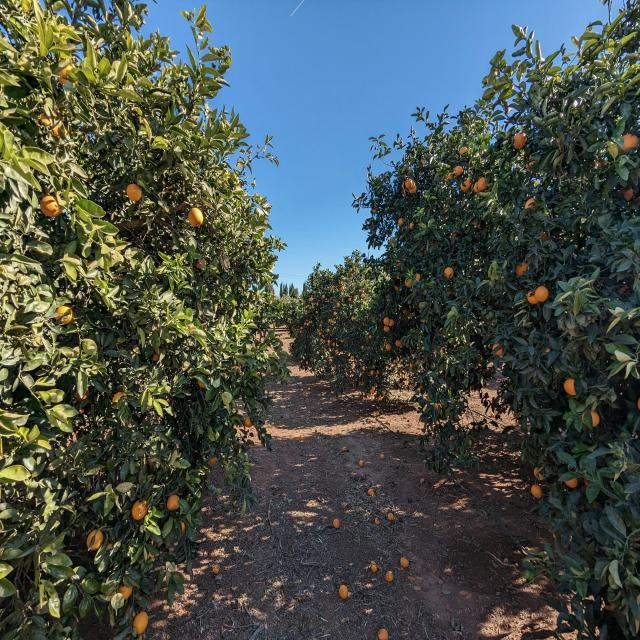Jeruk Sudah Matang: (15, 316, 42, 346), (56, 60, 78, 86), (49, 116, 69, 143), (84, 526, 104, 553), (40, 192, 60, 218), (33, 104, 56, 126), (53, 302, 74, 326), (617, 134, 639, 156), (132, 497, 150, 522), (114, 580, 134, 602), (582, 408, 602, 430), (134, 610, 150, 634), (126, 182, 144, 202), (110, 390, 128, 410), (562, 470, 580, 490), (100, 577, 116, 599), (564, 376, 579, 398), (188, 206, 204, 226), (512, 130, 528, 150), (537, 342, 554, 360), (516, 260, 532, 278), (186, 320, 200, 340), (535, 284, 549, 304), (73, 384, 89, 401), (526, 196, 540, 215), (106, 542, 119, 562), (621, 186, 635, 203), (160, 201, 173, 219), (150, 344, 163, 362), (584, 471, 597, 489), (204, 350, 217, 367), (530, 484, 543, 501), (197, 372, 209, 390), (168, 494, 180, 512), (534, 464, 546, 482), (143, 548, 156, 564), (538, 228, 550, 245), (525, 158, 538, 173), (491, 342, 504, 357), (596, 156, 608, 172), (526, 288, 538, 304), (123, 604, 134, 620), (41, 190, 48, 214), (147, 453, 159, 467), (442, 266, 454, 280), (196, 256, 206, 272), (478, 177, 489, 191), (176, 520, 188, 532), (474, 180, 484, 194), (460, 178, 470, 192), (78, 403, 88, 416), (452, 164, 462, 176), (444, 288, 454, 300), (208, 452, 217, 465), (148, 534, 157, 547), (244, 416, 254, 427), (459, 145, 469, 156), (435, 346, 445, 356), (235, 362, 242, 376), (405, 276, 413, 288), (434, 403, 442, 414), (222, 368, 230, 378), (406, 166, 414, 176), (414, 272, 422, 282), (447, 170, 454, 180), (384, 316, 391, 326), (443, 176, 451, 184), (420, 158, 428, 166), (409, 222, 417, 230), (389, 238, 398, 245), (398, 217, 405, 226), (402, 256, 410, 263), (512, 411, 520, 418), (418, 302, 425, 310), (388, 318, 395, 326), (395, 339, 402, 346), (373, 206, 378, 215), (394, 286, 400, 293), (387, 294, 392, 302), (384, 324, 389, 332), (408, 382, 414, 388), (417, 356, 423, 362), (419, 384, 424, 391), (396, 259, 400, 267), (425, 396, 430, 402), (336, 302, 341, 308), (353, 294, 358, 300), (369, 388, 374, 394), (382, 388, 387, 394), (396, 274, 400, 281), (386, 344, 390, 351), (410, 362, 414, 368), (422, 318, 426, 324), (403, 309, 407, 315), (332, 298, 336, 304), (322, 338, 326, 344), (362, 366, 366, 372), (370, 370, 374, 376), (376, 369, 380, 375), (376, 374, 380, 380), (378, 394, 382, 400), (416, 345, 420, 350), (408, 312, 412, 317), (322, 294, 326, 299), (329, 358, 333, 363), (320, 362, 324, 367), (332, 342, 336, 347), (318, 323, 322, 328), (332, 331, 336, 336), (333, 311, 337, 316), (358, 392, 362, 397), (362, 396, 366, 401), (372, 364, 376, 369), (366, 279, 370, 283), (332, 284, 336, 288), (348, 298, 352, 302), (315, 310, 319, 314), (316, 328, 320, 332), (326, 328, 330, 332), (356, 330, 360, 334), (350, 356, 354, 360), (372, 386, 376, 390), (386, 398, 390, 402), (399, 372, 402, 377), (397, 356, 400, 361), (339, 280, 342, 285), (324, 372, 327, 377), (335, 349, 338, 354), (328, 339, 331, 344), (322, 333, 325, 338), (321, 319, 324, 324), (402, 382, 405, 386), (404, 368, 406, 374), (350, 266, 352, 272), (309, 290, 312, 294), (313, 290, 316, 294), (302, 306, 306, 309), (300, 326, 304, 329), (305, 312, 308, 316), (316, 302, 319, 306), (330, 288, 333, 292), (342, 286, 344, 292), (352, 315, 354, 321), (306, 318, 309, 322), (306, 323, 310, 326), (308, 321, 312, 324), (314, 372, 317, 376), (324, 348, 327, 352), (327, 372, 330, 376), (320, 338, 323, 342), (319, 340, 322, 344), (331, 320, 334, 324), (341, 338, 344, 342), (362, 322, 365, 326), (369, 334, 372, 338), (368, 393, 371, 397), (362, 293, 364, 298), (362, 345, 364, 350), (356, 361, 358, 366), (304, 322, 307, 325), (412, 370, 414, 374), (308, 304, 310, 308), (306, 305, 308, 309), (328, 298, 330, 302), (304, 344, 306, 348), (319, 330, 321, 334), (328, 318, 330, 322), (300, 330, 302, 333), (296, 327, 298, 330), (294, 328, 296, 331), (288, 330, 290, 333), (296, 321, 298, 324), (306, 362, 308, 365), (328, 343, 330, 346), (309, 336, 312, 338), (310, 296, 312, 298), (288, 326, 290, 328), (292, 321, 294, 323), (292, 324, 294, 326), (306, 310, 308, 312), (314, 302, 316, 304), (321, 298, 323, 300)
